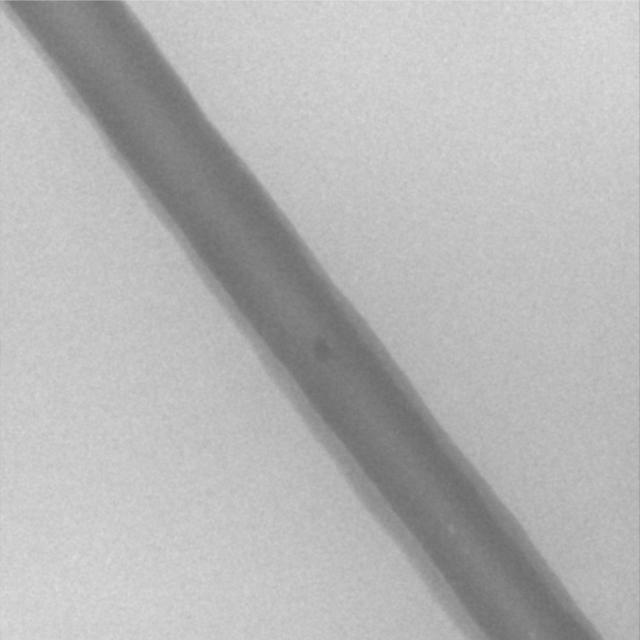air hole: (446, 522, 455, 534)
